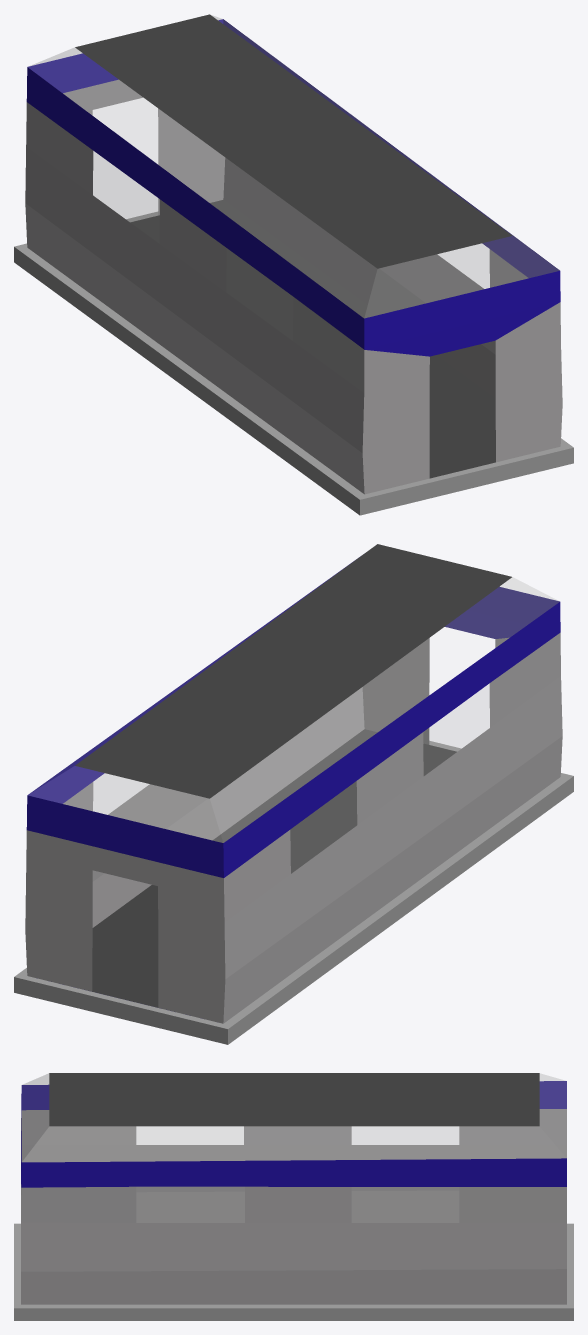
File: trainmodcartsample.glb
3 views of the same model, one above another, from view 1: azimuth 30°, elevation 25°; view 2: azimuth 150°, elevation 25°; view 3: azimuth 270°, elevation 25° (orthographic). The views are drawn at different scales.
Visible parts, largest first — view 1: Cube; view 2: Cube; view 3: Cube.
Boxes of the visible parts, x1,y1,x2,y2 form: Cube: [14, 14, 573, 515]; Cube: [14, 544, 573, 1044]; Cube: [14, 1073, 573, 1320].
Size of the model in its own units: 2.18 by 2.15 by 6.11.
